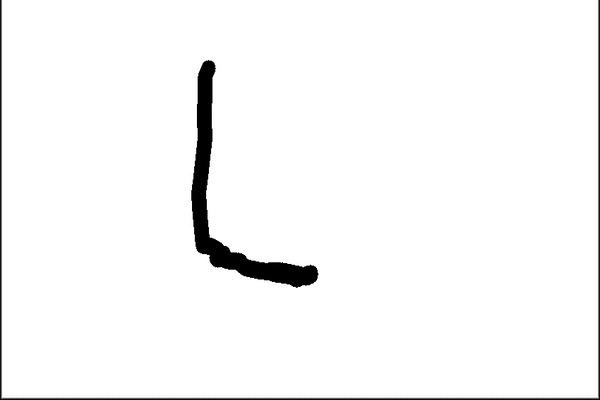L: (184, 53, 323, 291)
